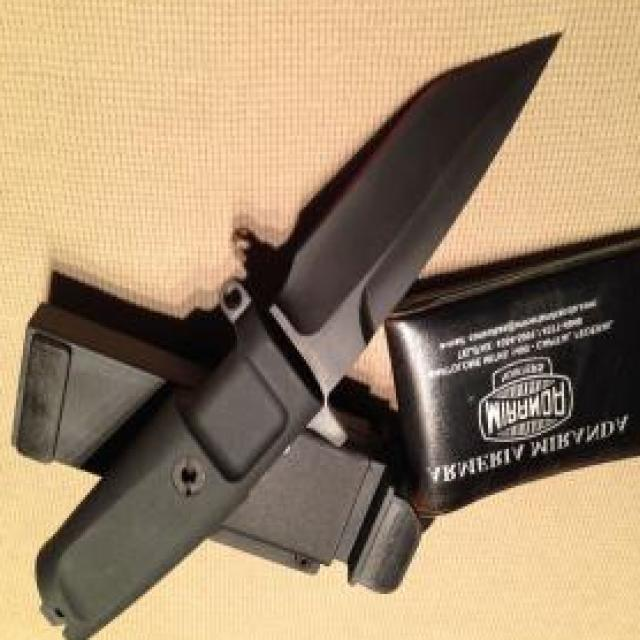knife: (260, 23, 573, 396)
